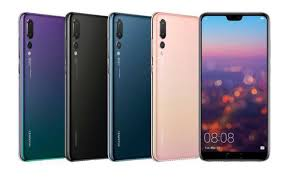huawei: (196, 8, 272, 161), (14, 10, 65, 162), (149, 11, 200, 161), (105, 9, 152, 162), (65, 10, 111, 162)
